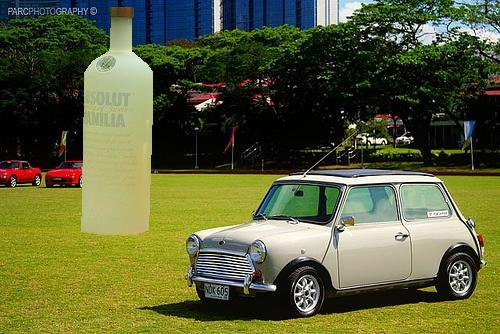tampered: (82, 8, 153, 235)
